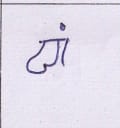anusvara: (59, 23, 66, 31)
